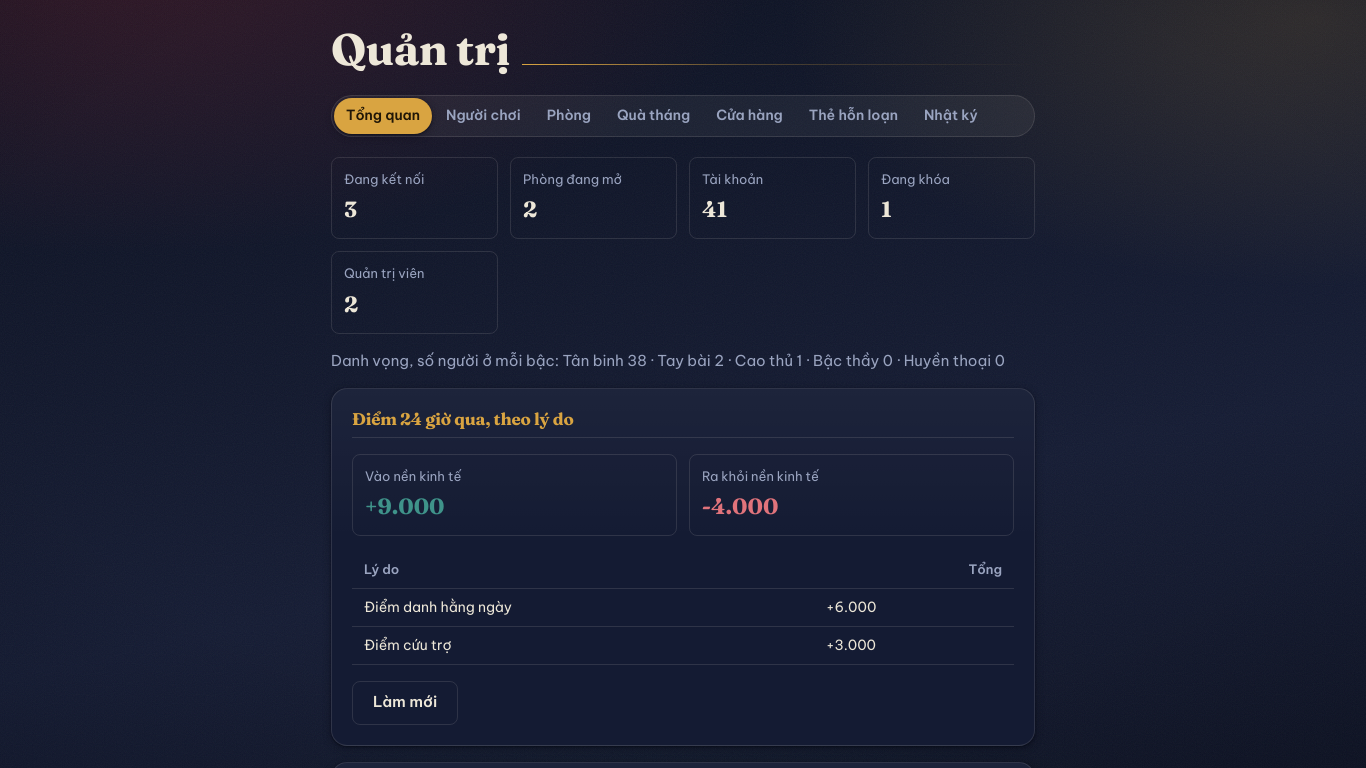
it: GmScreen — the player pages › leaves the console when the player list itself is refused
This screenshot has width=1366, height=768.
What coordinates should you click on to do the following:
click the button "Người chơi"
I would click on:
 (483, 116)
Its box is [434,98,533,134].
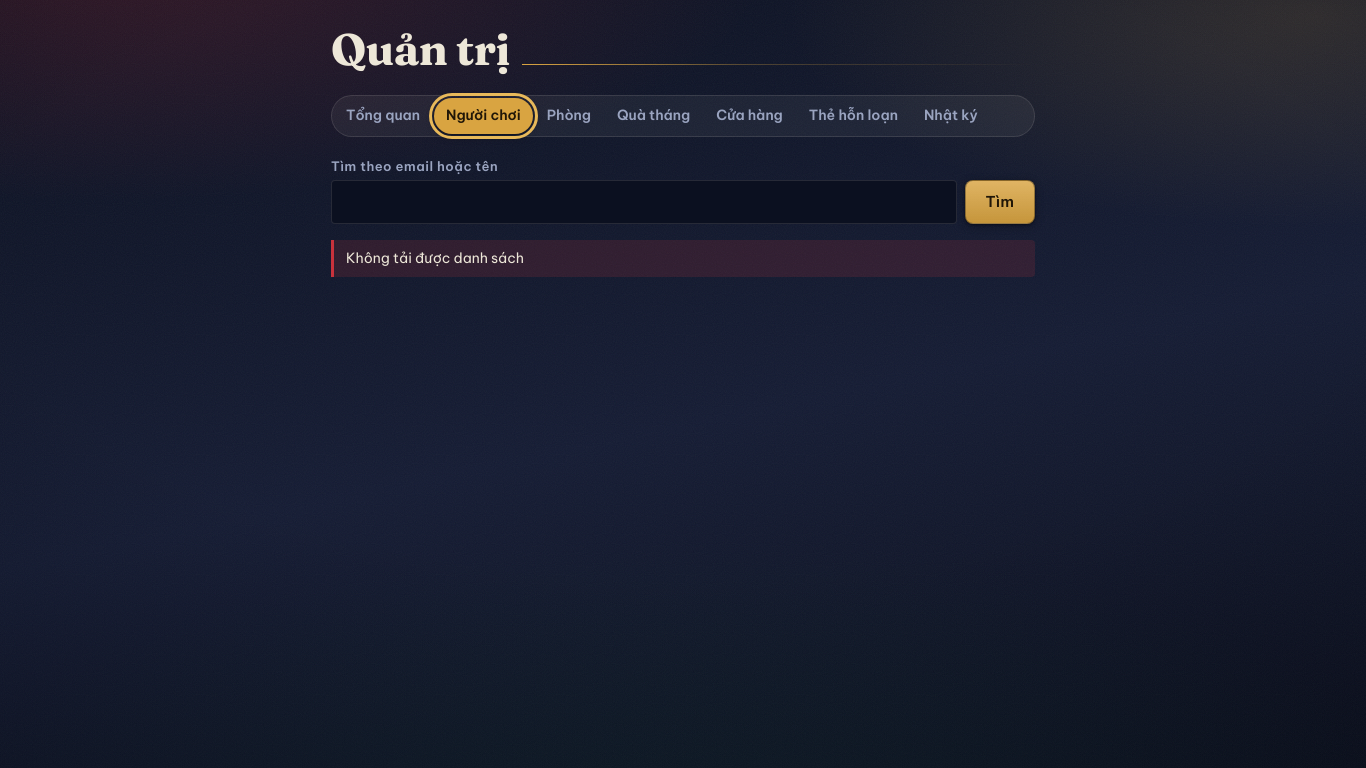
Expected: the message reads "Không tải được danh sách", [346,249,524,267]
